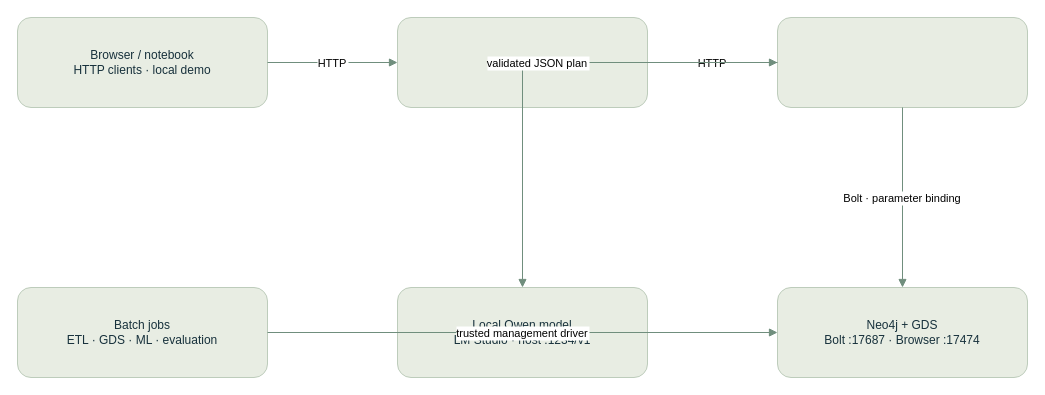
Image size: 1045x395. Some labels were removed from this diagram. The centre of each missing label's shape, as x and y in pixels:
FastAPI Contracts · policy · safe compiler: (x=902, y=62)
Nginx localhost:18080 → internal :8000: (x=522, y=62)
